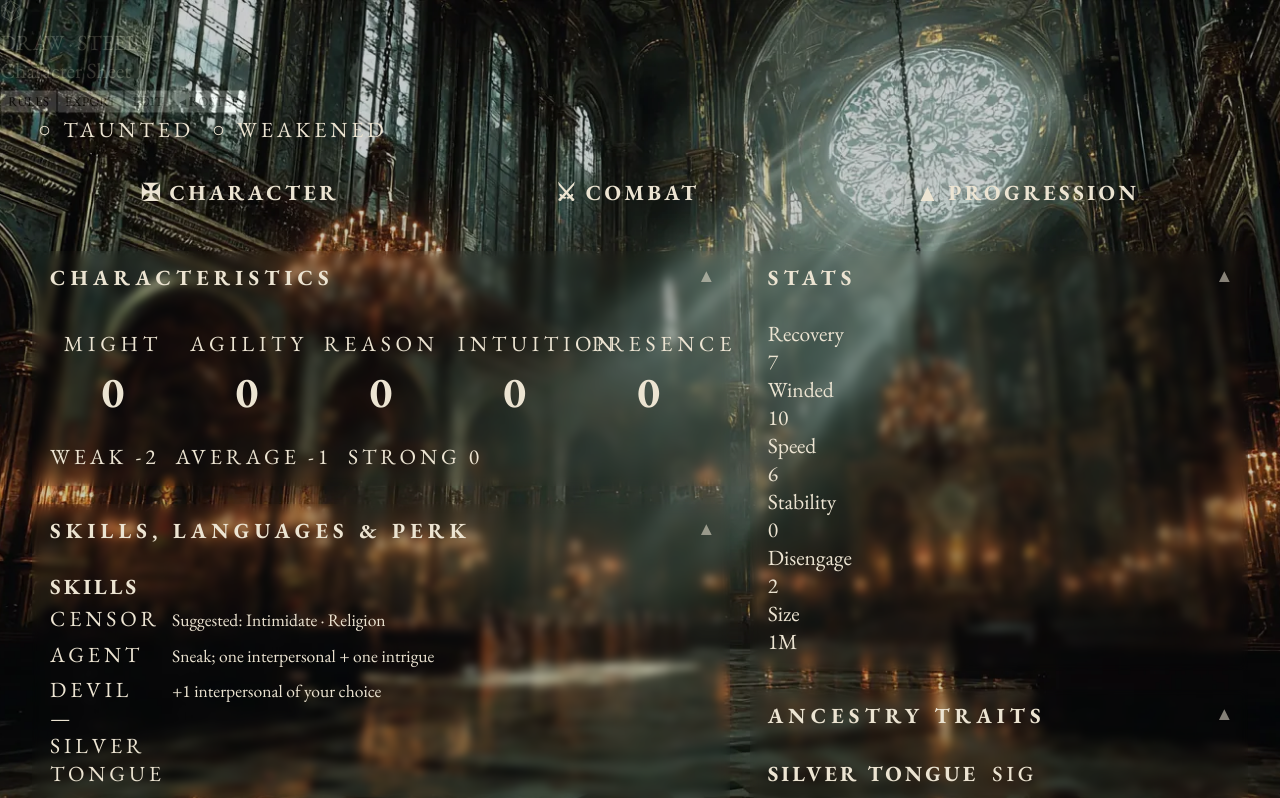
Test case: PlayView sheet tabs › potency legend entries show styled tooltips with their formula
The image size is (1280, 798).
(page scrolled)
Hover over the text "WEAK -2" at x=105, y=456, box x1=50 y1=442 x2=160 y2=470
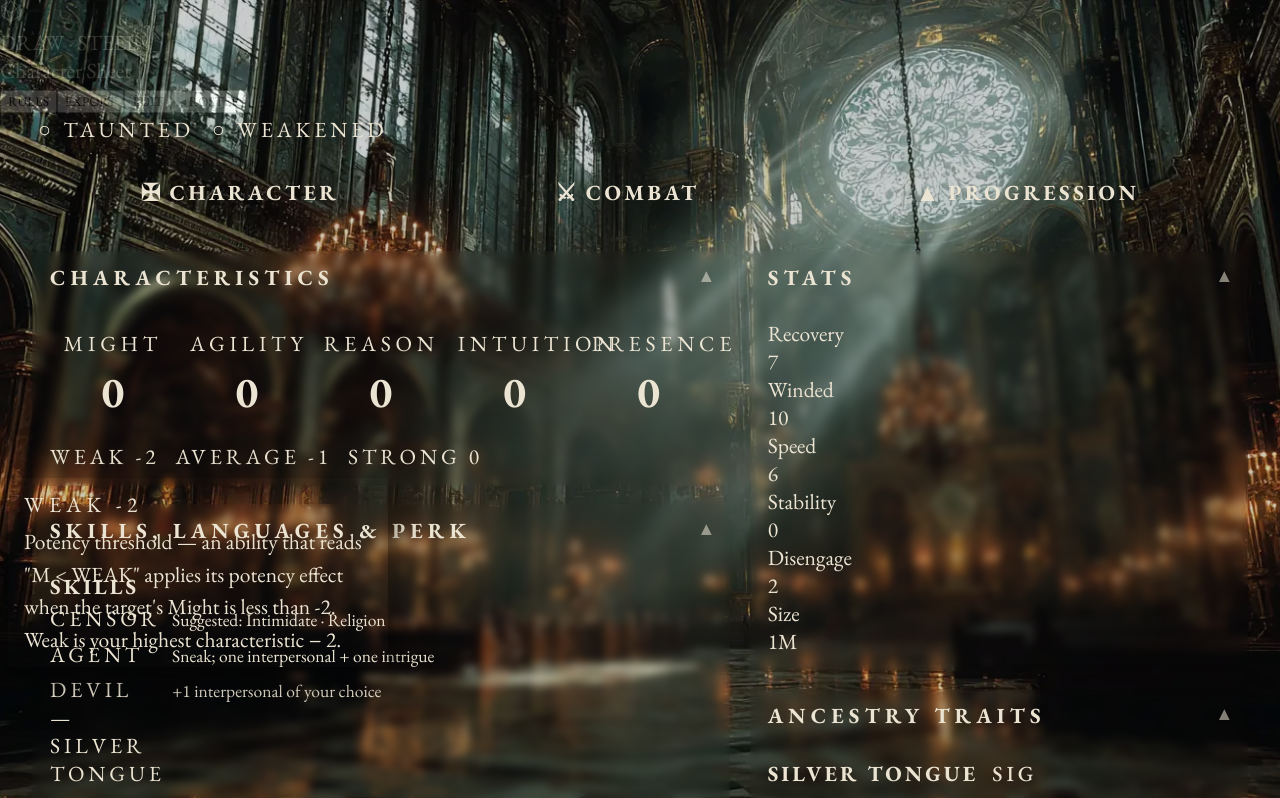
Expected: the tooltip shows "M < WEAK", x1=24 y1=527 x2=362 y2=653
Expected: the tooltip shows "highest characteristic − 2", x1=24 y1=527 x2=362 y2=653
Move the pointer off the text "WEAK -2", box x1=50 y1=442 x2=160 y2=470
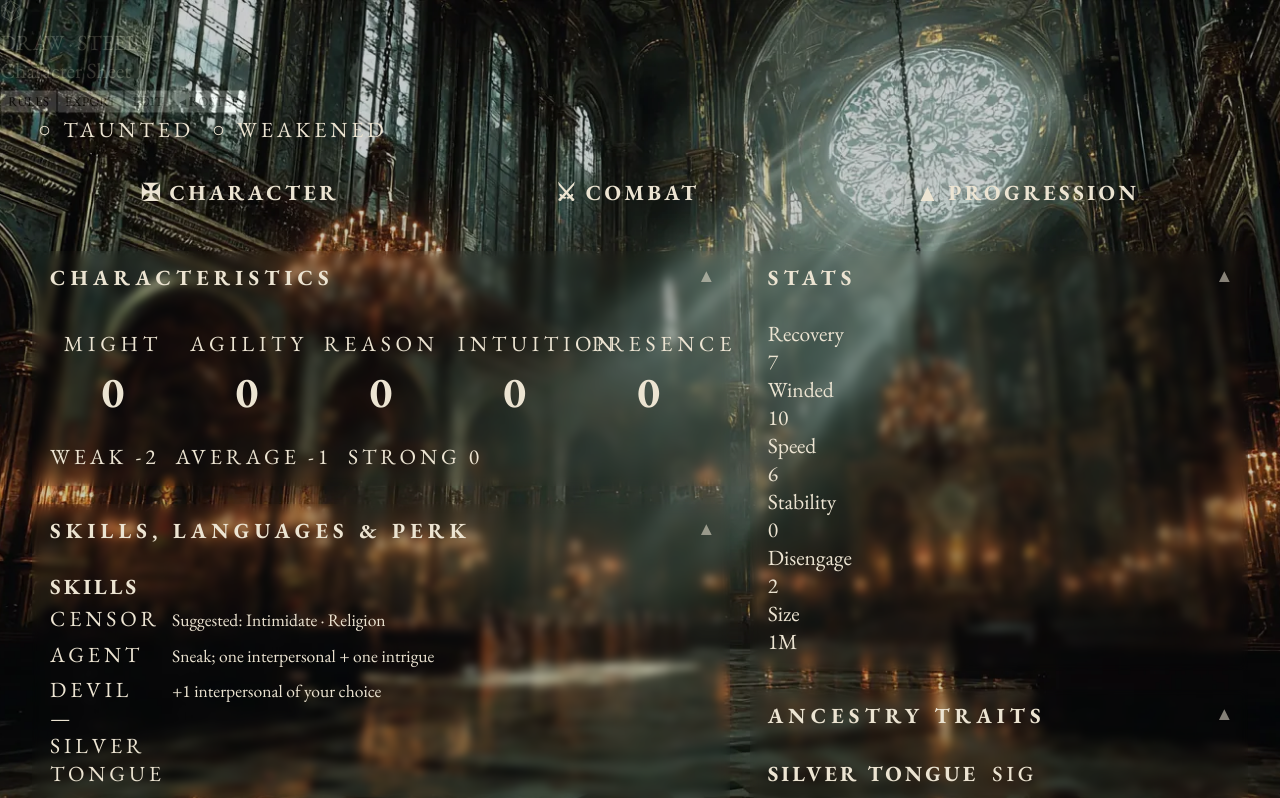
Expected: the tooltip is gone
